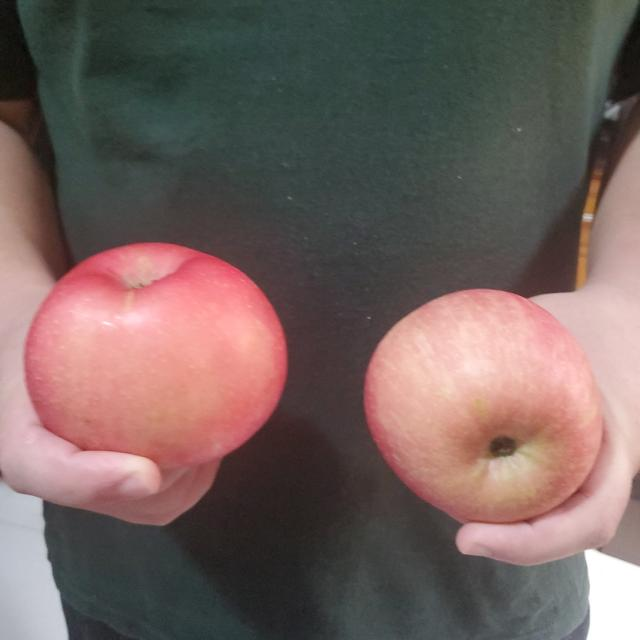apple: (19, 247, 284, 468), (359, 288, 602, 526)
